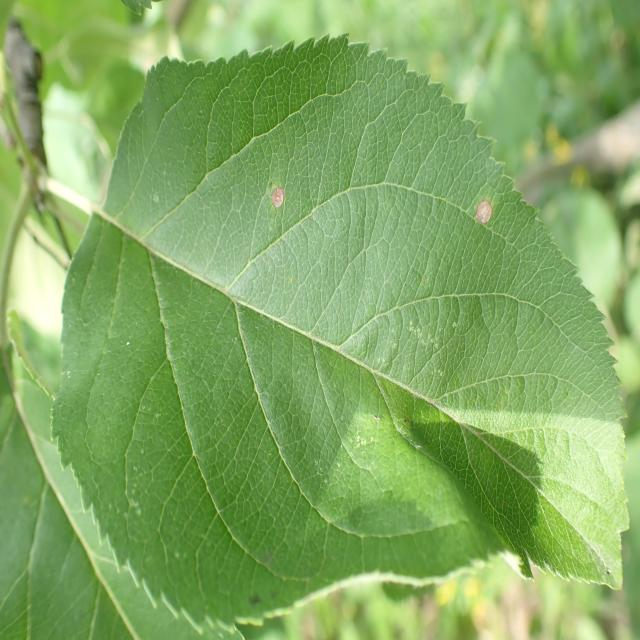Black Rot: (449, 175, 513, 242), (269, 176, 293, 218)
